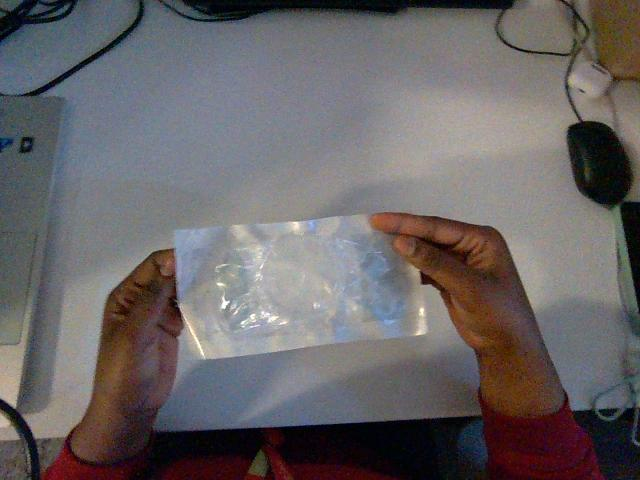gallipot: (175, 215, 426, 358)
